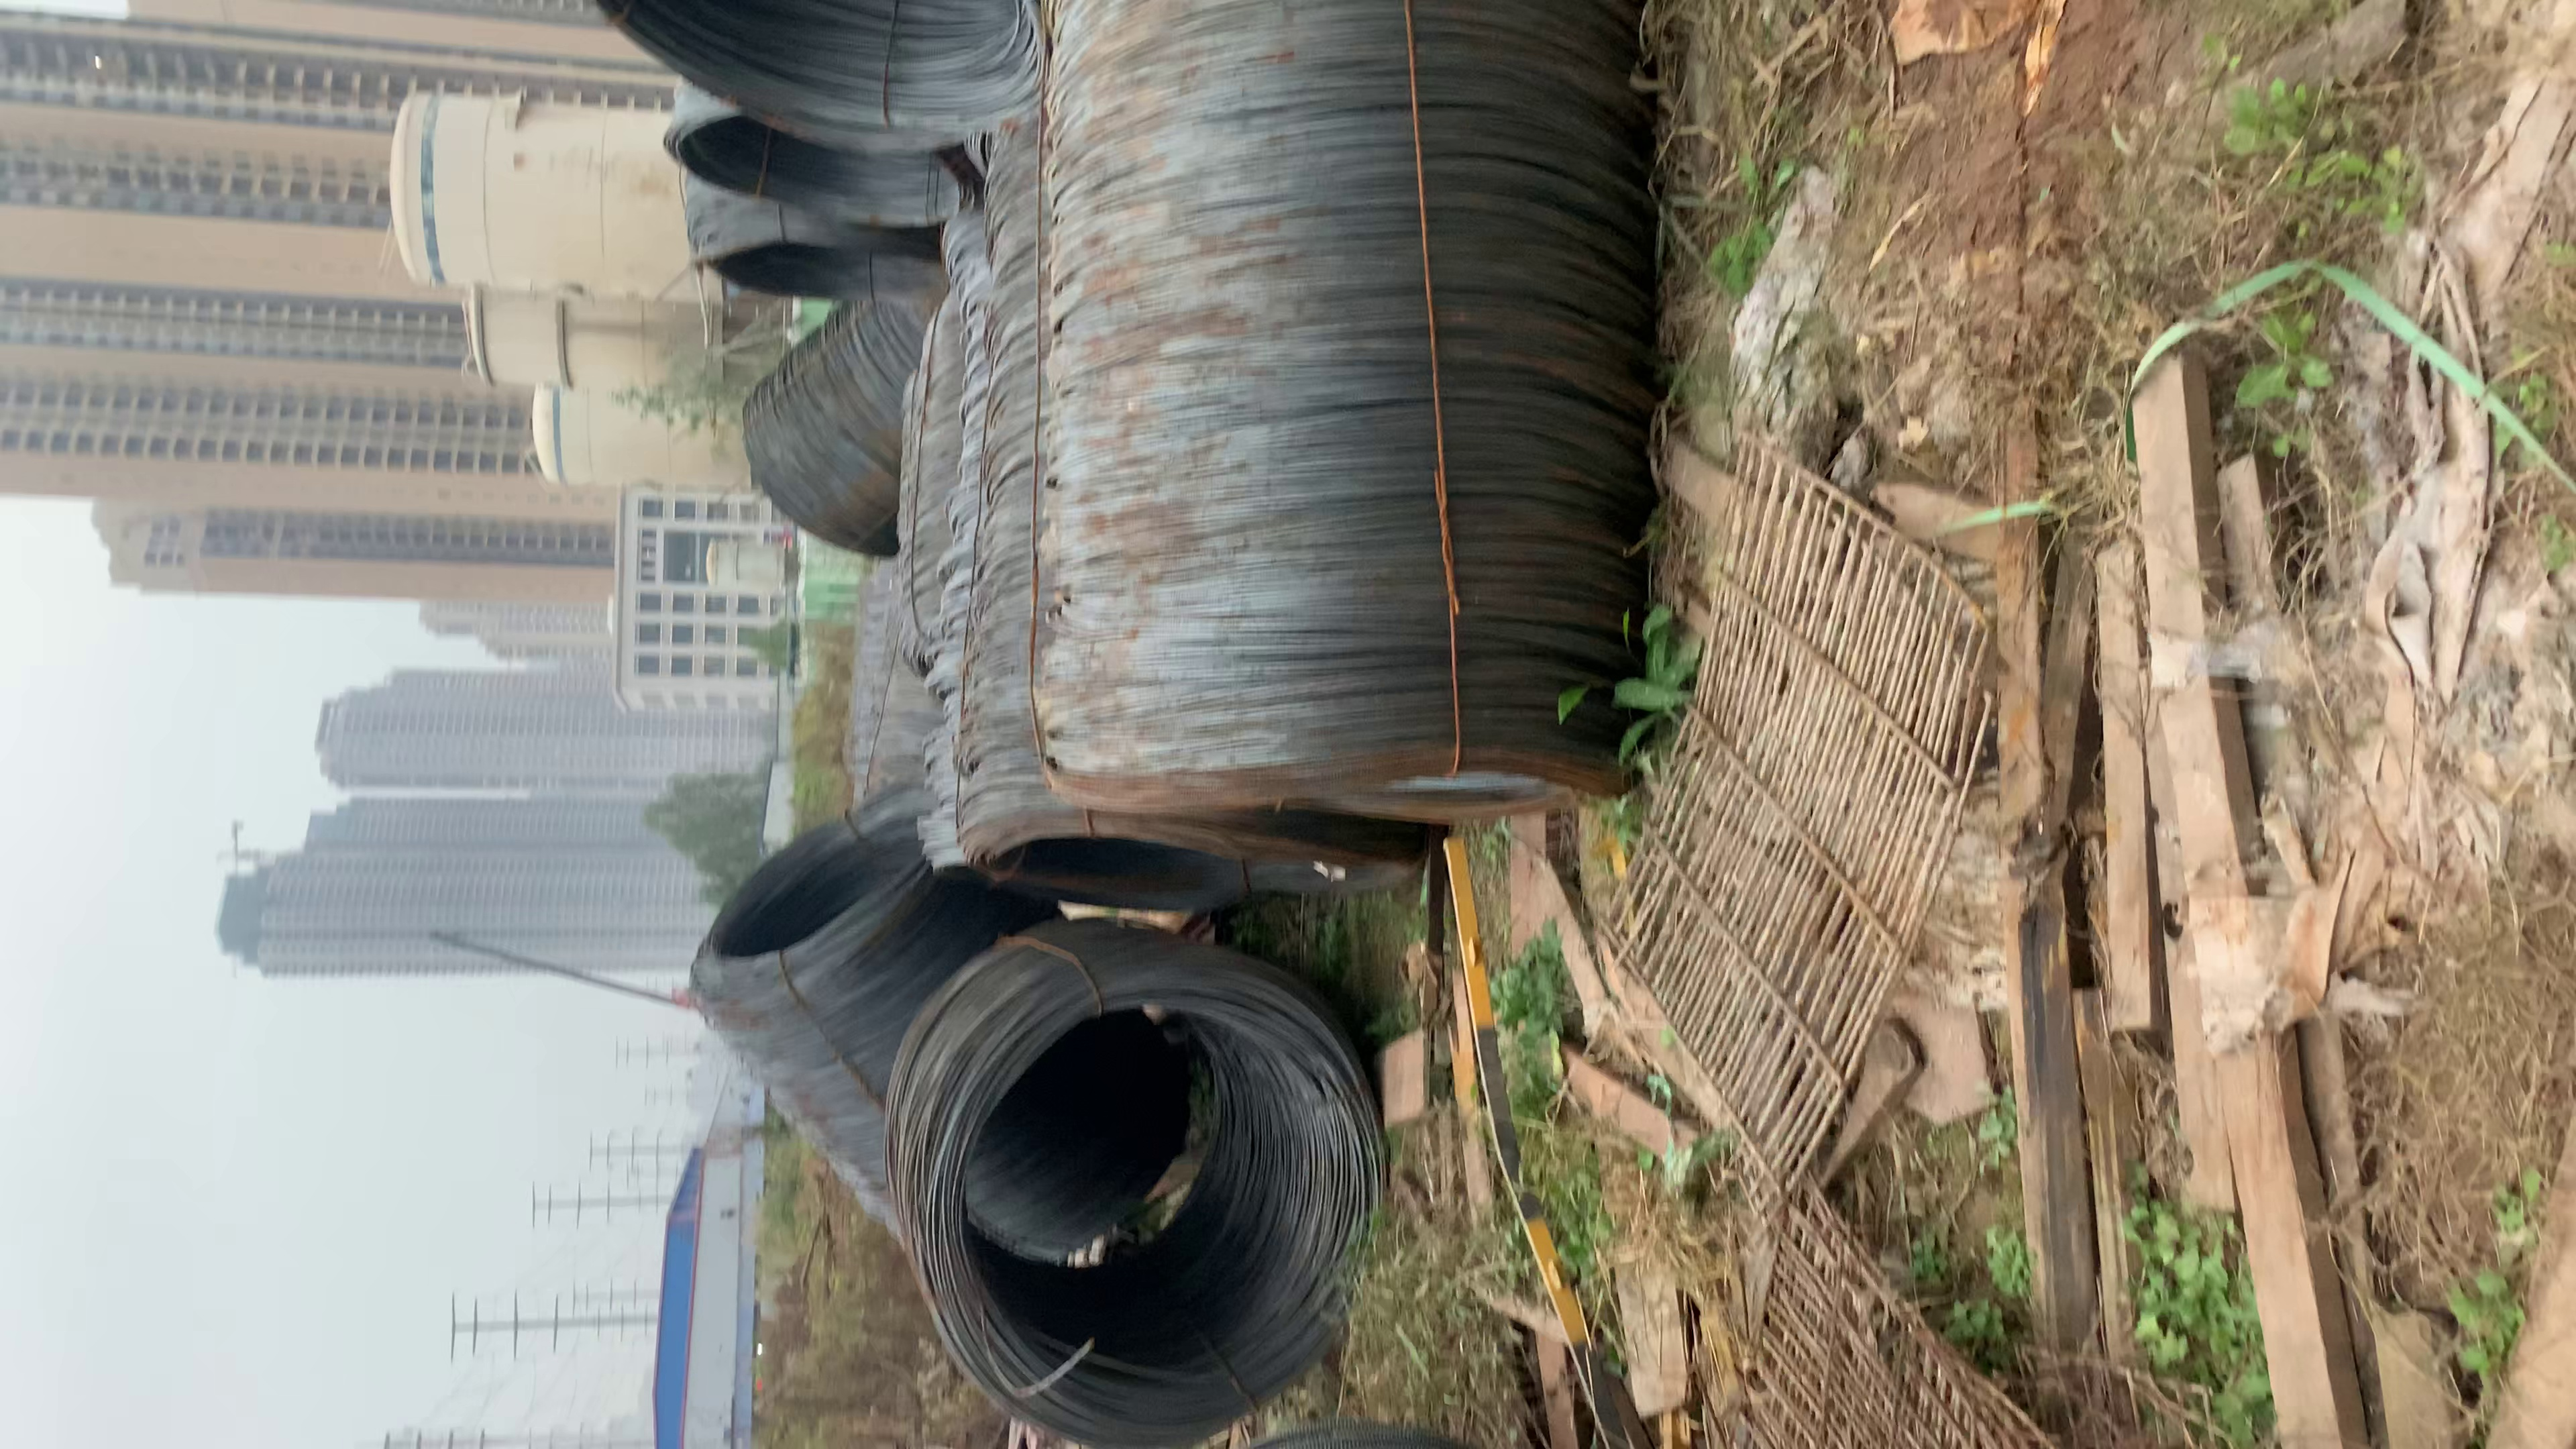coil: (904, 975, 1376, 1445), (962, 786, 1410, 961), (626, 0, 1069, 163), (685, 775, 941, 1005), (628, 96, 975, 241), (679, 223, 948, 327)
